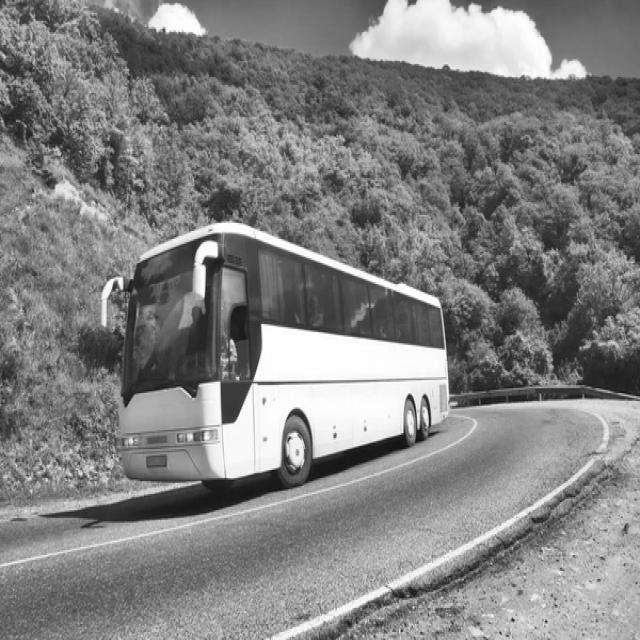Bus: (103, 221, 450, 488)
